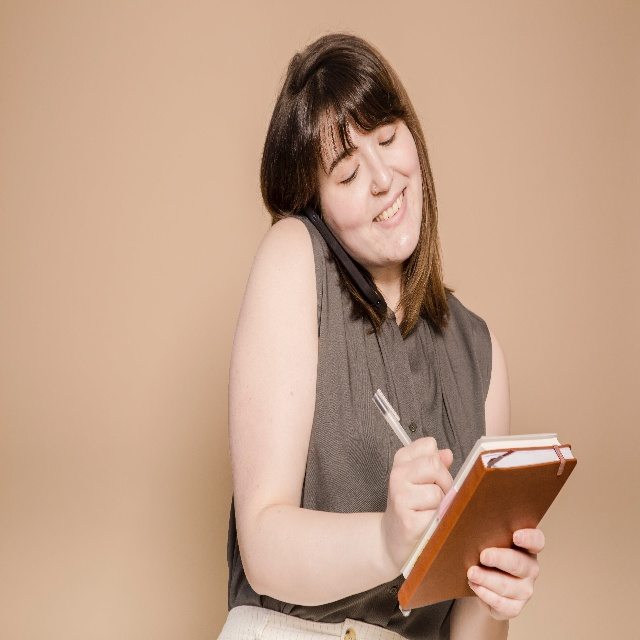Sin_guantes: (382, 436, 454, 573), (466, 527, 545, 621)
